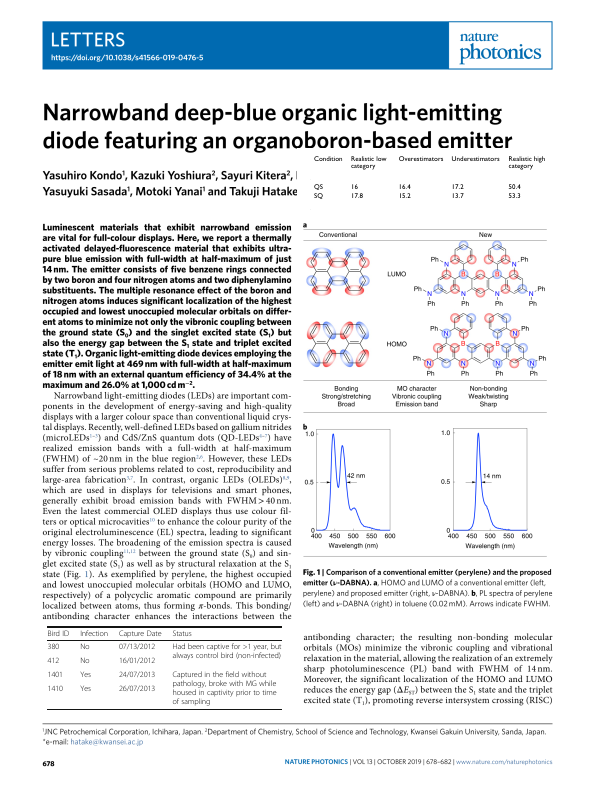borderless: (47, 625, 282, 709), (308, 153, 548, 211)
cell: (171, 670, 277, 707), (171, 642, 282, 661), (507, 155, 546, 171), (349, 155, 387, 171), (450, 155, 500, 164), (397, 155, 444, 164), (118, 629, 162, 638), (118, 642, 156, 652), (118, 656, 156, 666), (118, 670, 156, 680), (118, 684, 156, 694), (79, 629, 109, 638), (313, 155, 343, 164), (47, 629, 70, 638), (171, 629, 193, 638), (47, 670, 64, 680), (47, 684, 64, 694), (47, 642, 60, 652), (47, 656, 60, 666), (79, 670, 92, 680), (79, 684, 92, 694), (397, 183, 411, 192), (450, 183, 464, 192), (507, 183, 521, 192), (349, 192, 363, 201), (397, 192, 411, 201), (450, 192, 464, 201), (507, 192, 521, 201), (79, 642, 90, 652), (79, 656, 90, 666), (313, 183, 323, 192), (313, 192, 323, 201), (349, 183, 358, 192)
